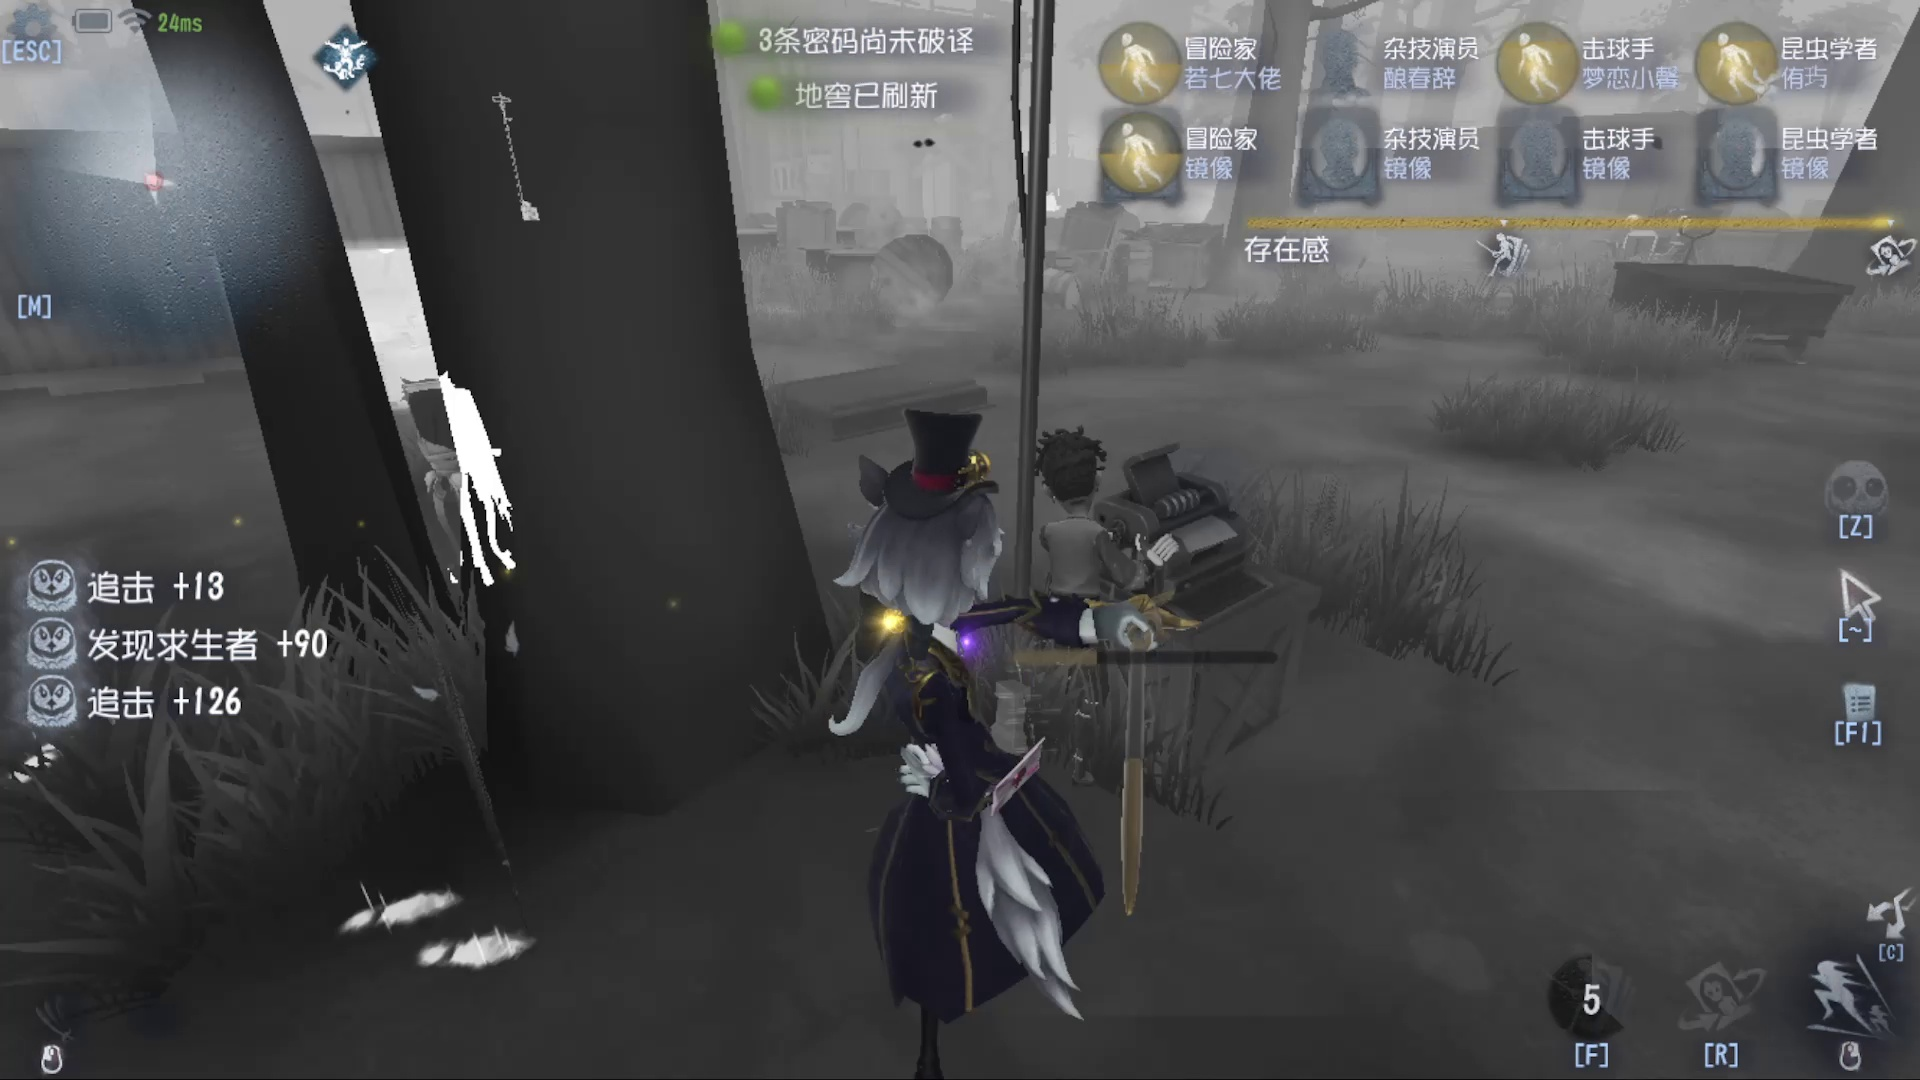求生者: (1013, 418, 1120, 651)
